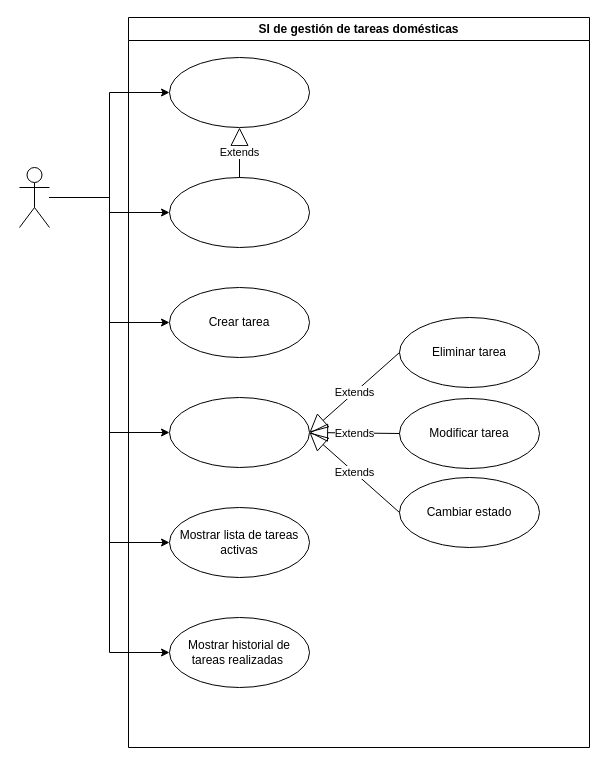
This 607x765 diagram has some shape labels left out. Here are the shapes that lost their labels. From the top down, the centre of each, then its label:
At (239,92): "Registrar usuario".
At (34,197): "Usario".
At (239,212): "Iniciar sesión".
At (239,432): "Gestionar Tarea".
